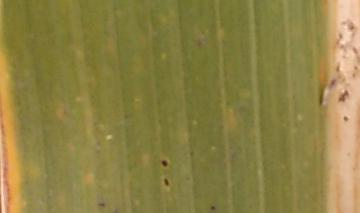tarspot: (158, 157, 171, 169), (338, 113, 351, 124), (207, 201, 218, 213), (161, 175, 171, 188), (94, 200, 108, 209)
